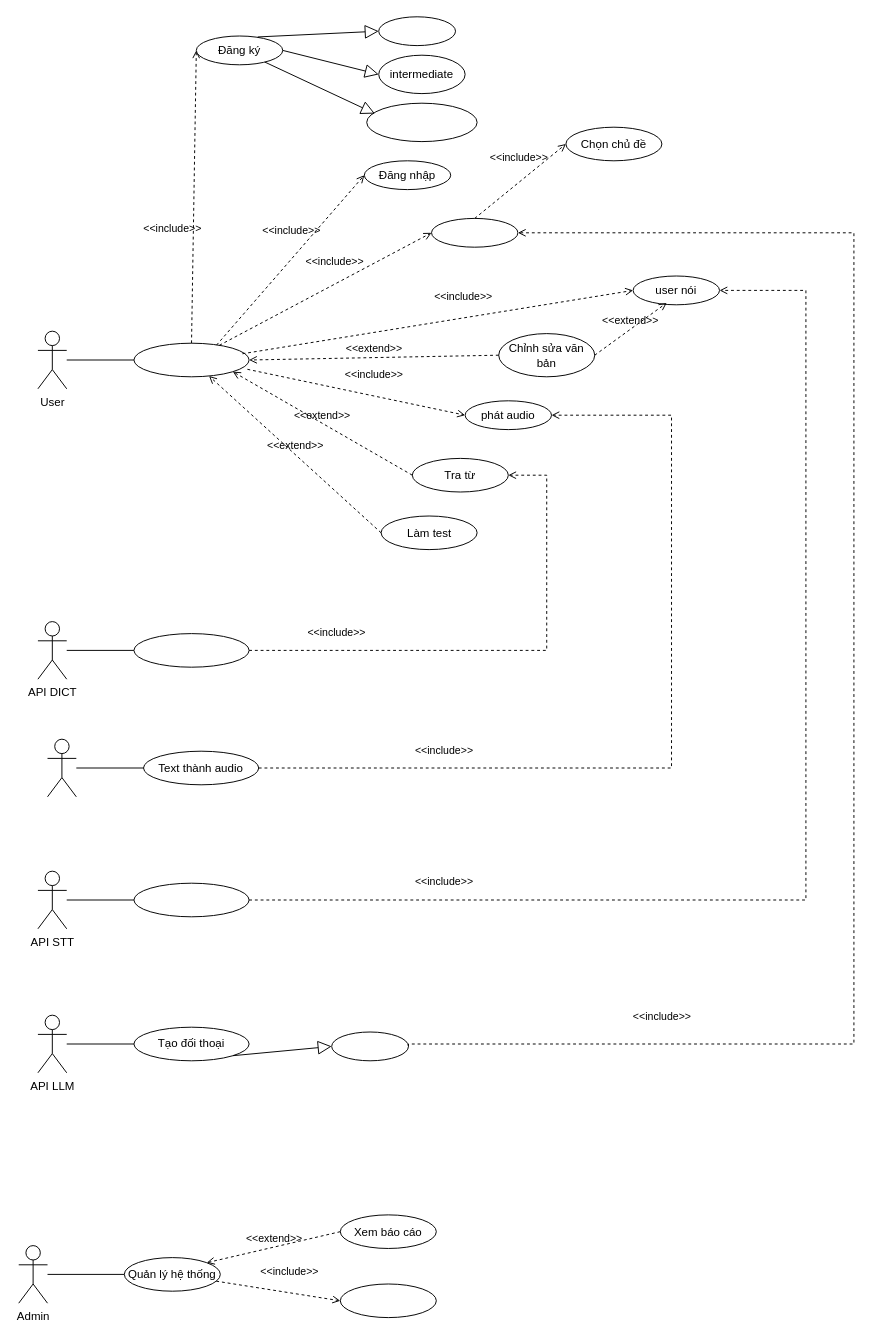
The diagram is 878 pixels wide and 1340 high, and some of its shapes have lost their labels. The shapes that lost their labels are listed below. From the top down, each one's centre as x and y in pixels, then its label:
the point at 417,31: beginner
the point at 421,122: up-intermediate
the point at 474,232: Tạo hội thoại
the point at 191,359: Học nói tiếng anh
the point at 191,650: tra từ điển
the point at 61,767: API TTS
the point at 191,899: Xử lý giọng nói
the point at 369,1046: Gợi ý câu hỏi
the point at 387,1300: cài đặt sự kiện
